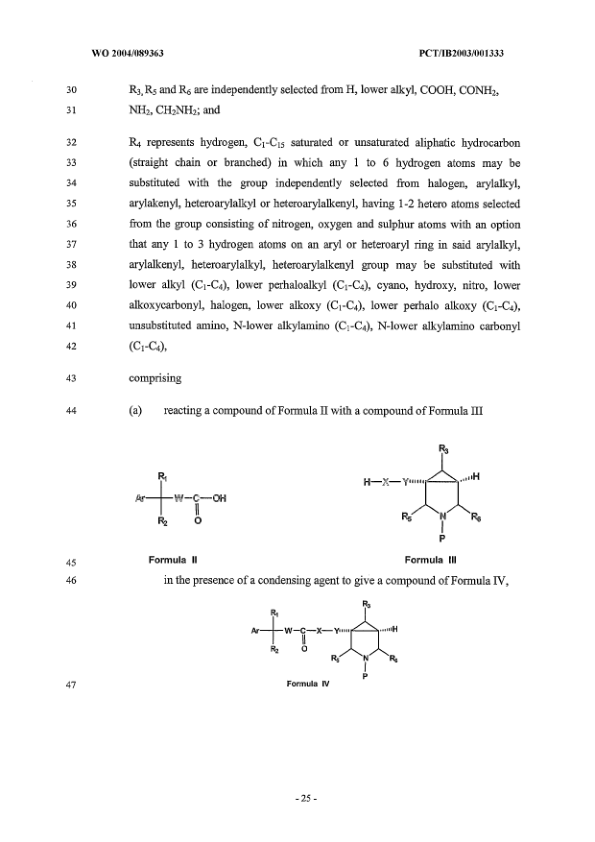compound-structure: (239, 598, 431, 692), (357, 441, 503, 547), (132, 457, 226, 538)
